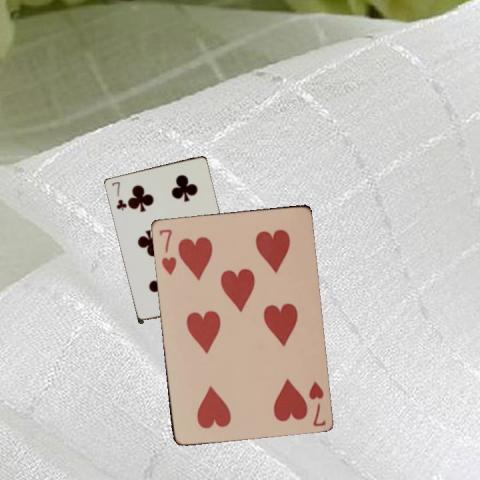7c: (108, 179, 126, 211)
7h: (155, 226, 178, 276), (305, 378, 327, 427)
